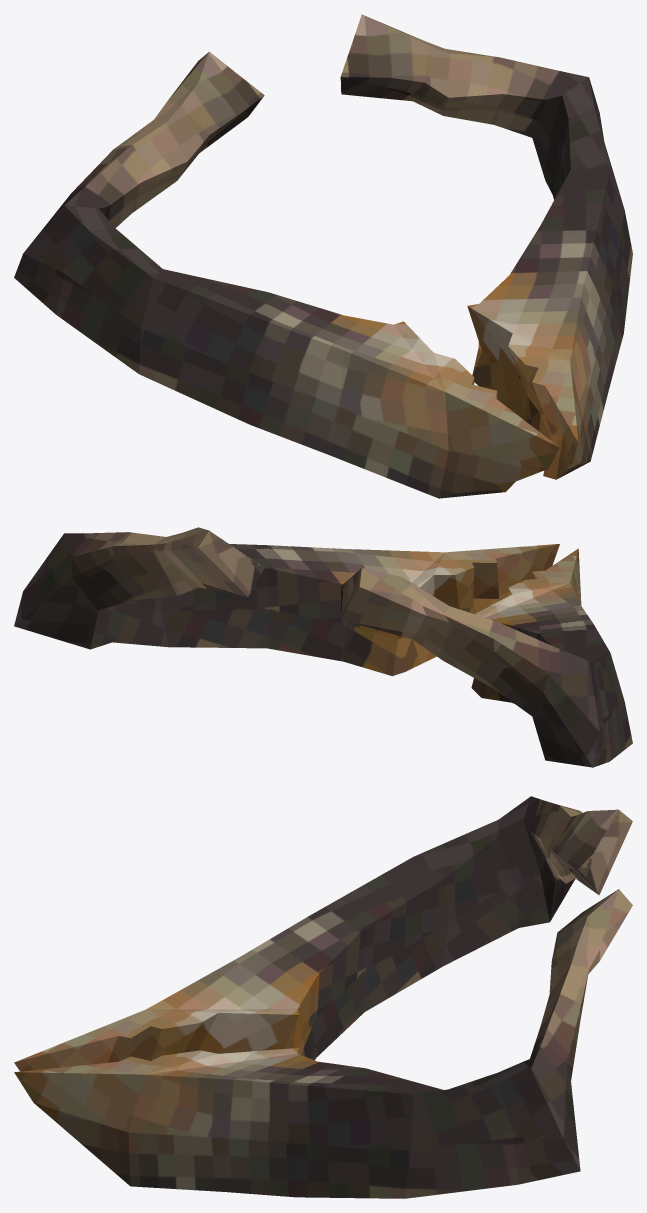
File: Mandibles_v1.fbx
3 renders of one model, top to bottom at view 1: azimuth 30°, elevation 25°; view 2: azimuth 150°, elevation 25°; view 3: azimuth 270°, elevation 25°, orthographic. The views are drawn at different scales.
Visible parts, largest first — view 1: Mandible Right, Mandible Left; view 2: Mandible Left, Mandible Right; view 3: Mandible Left, Mandible Right.
Part boxes in pixels (<box>): Mandible Right: <box>14,51,559,498</box>; Mandible Left: <box>340,14,632,479</box>; Mandible Left: <box>14,527,559,676</box>; Mandible Right: <box>340,548,632,767</box>; Mandible Left: <box>14,889,632,1198</box>; Mandible Right: <box>14,796,632,1071</box>.
Bounding box in the file's own units: 130 × 59.9 × 113.
